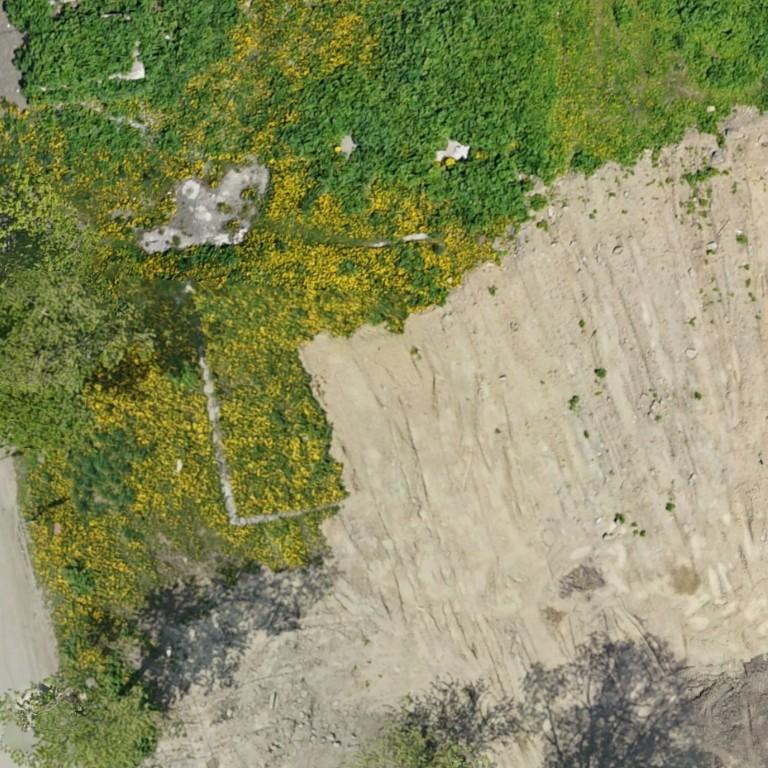hogweed: (283, 0, 556, 210), (12, 0, 238, 106), (39, 106, 141, 168), (444, 156, 526, 224), (155, 130, 180, 154)
